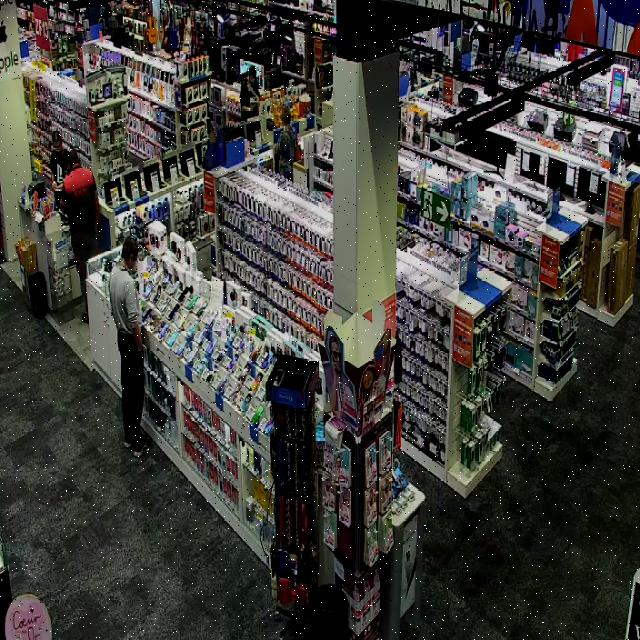bags: (296, 137, 303, 163)
person: (109, 238, 150, 457), (60, 149, 99, 322), (279, 104, 295, 180)
